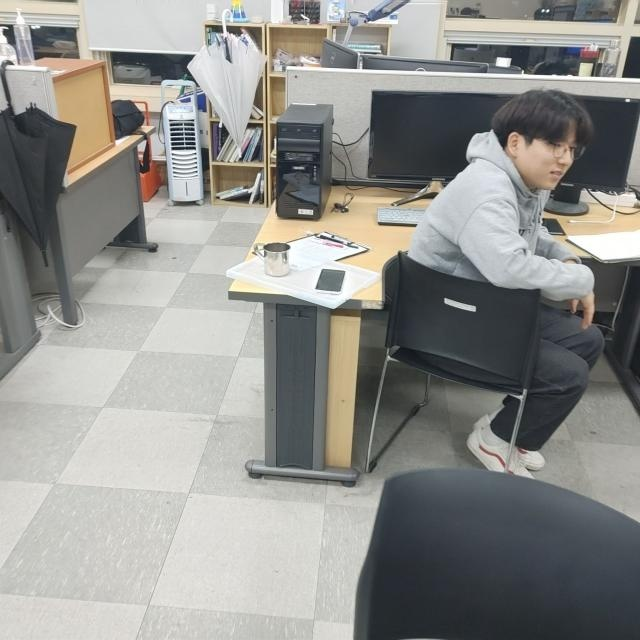cup: (251, 241, 292, 277)
phone: (312, 266, 346, 295)
